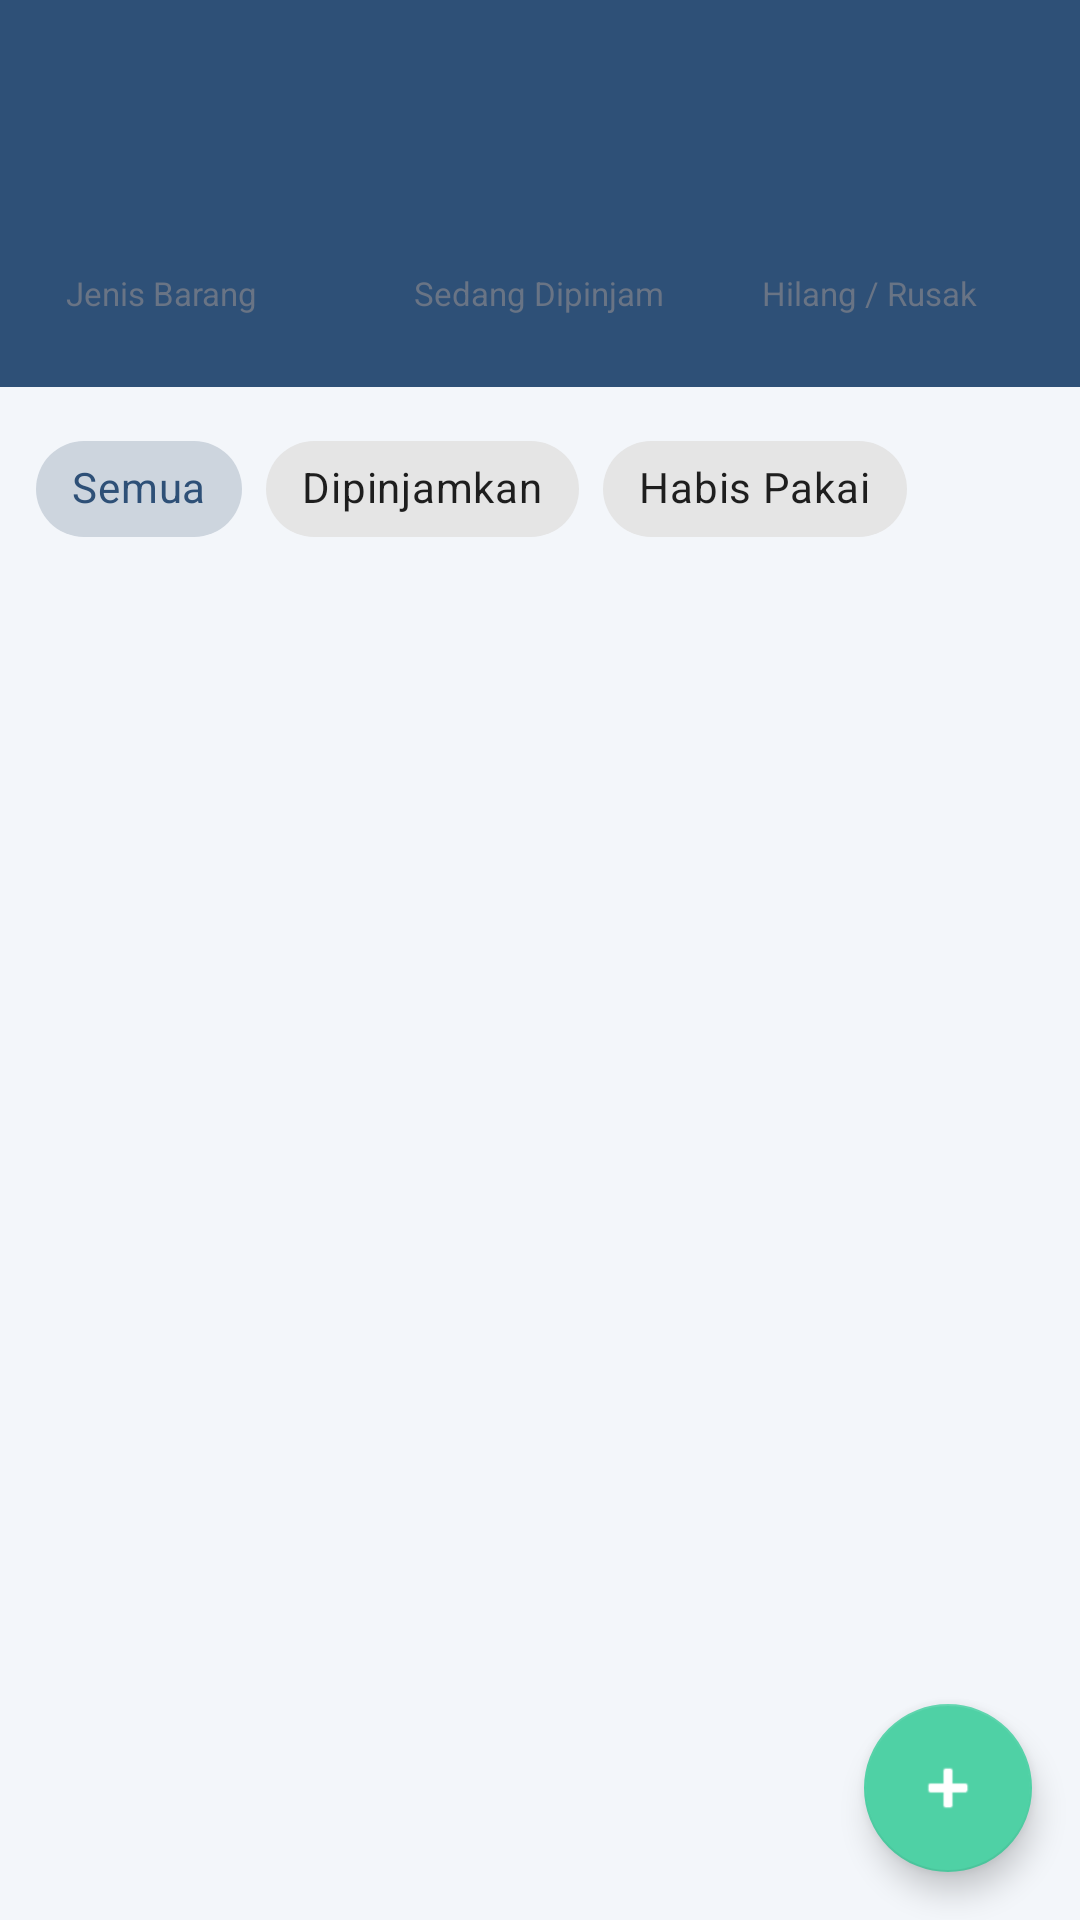

Locate icon controls on the screen. Image size 1080 × 1920, boxes as (left=x1, top=y1, right=x2, bottom=y2).
Tambah Barang: (left=864, top=1704, right=1032, bottom=1872)
